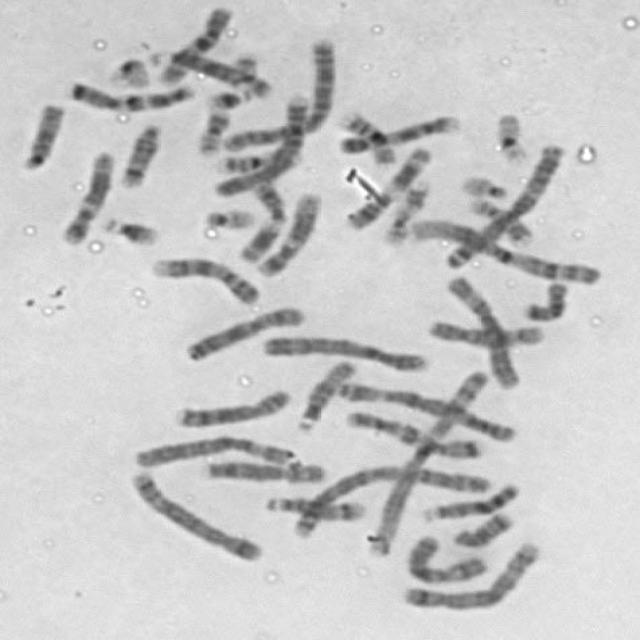A1: (359, 360, 497, 560), (402, 212, 605, 287)
A2: (284, 460, 493, 541), (219, 32, 343, 153)
A3: (436, 136, 568, 270), (332, 377, 518, 443)
B4: (208, 89, 312, 198), (256, 329, 432, 374)
B5: (122, 463, 266, 564), (397, 534, 546, 612)
C10: (155, 0, 238, 86), (420, 314, 547, 349)
C11: (340, 140, 436, 232), (231, 174, 289, 265)
C12: (250, 186, 324, 279), (54, 146, 117, 247)
C6: (437, 270, 522, 390), (126, 429, 300, 471)
C7: (340, 405, 486, 460), (62, 74, 200, 114)
C8: (167, 384, 294, 429), (200, 454, 330, 485)
C9: (145, 251, 264, 308), (332, 110, 463, 155)
D13: (145, 39, 277, 99), (416, 477, 522, 523)
D14: (114, 117, 166, 189), (260, 490, 371, 523)
D15: (289, 353, 360, 433), (13, 96, 68, 172)
E16: (336, 106, 401, 168), (212, 146, 282, 175)
E17: (460, 191, 532, 248), (379, 175, 433, 247)
E18: (446, 505, 516, 550), (516, 275, 572, 323)
F19: (488, 106, 533, 166), (102, 51, 156, 91)
F20: (190, 104, 232, 158), (227, 50, 270, 99)
G21: (96, 211, 162, 248), (200, 82, 256, 111)
G22: (454, 169, 511, 200), (198, 203, 258, 230)
X: (177, 300, 308, 364), (399, 528, 492, 587)
